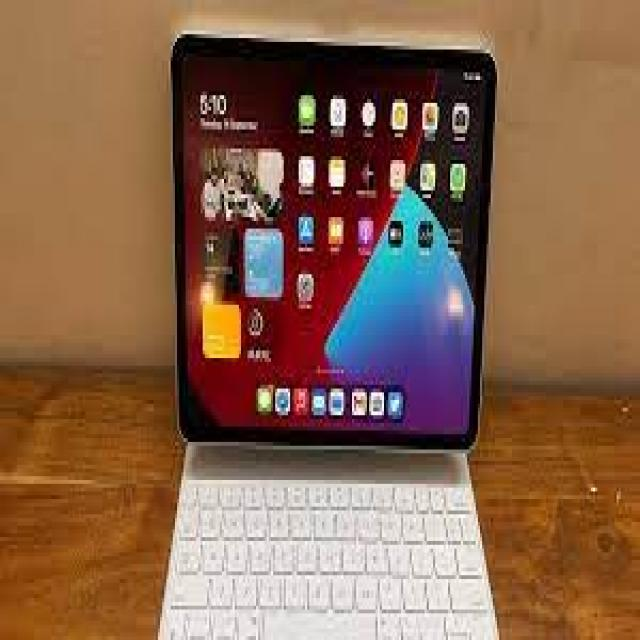others: (141, 15, 516, 640)
